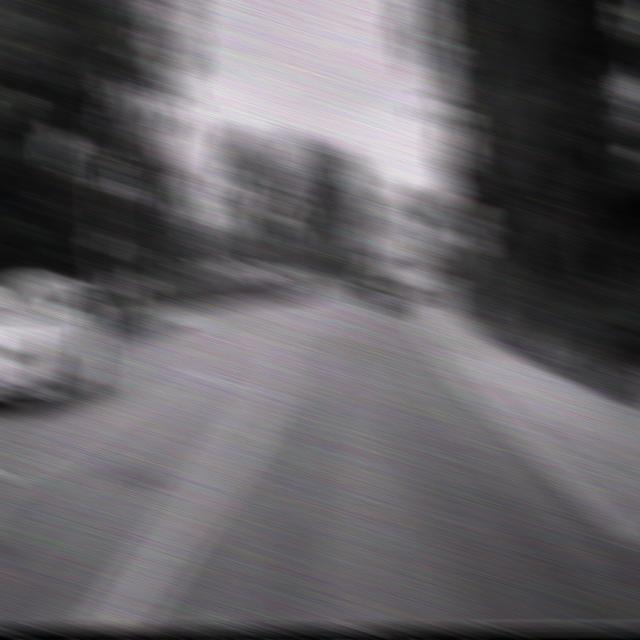speedLimit25: (457, 195, 488, 254)
